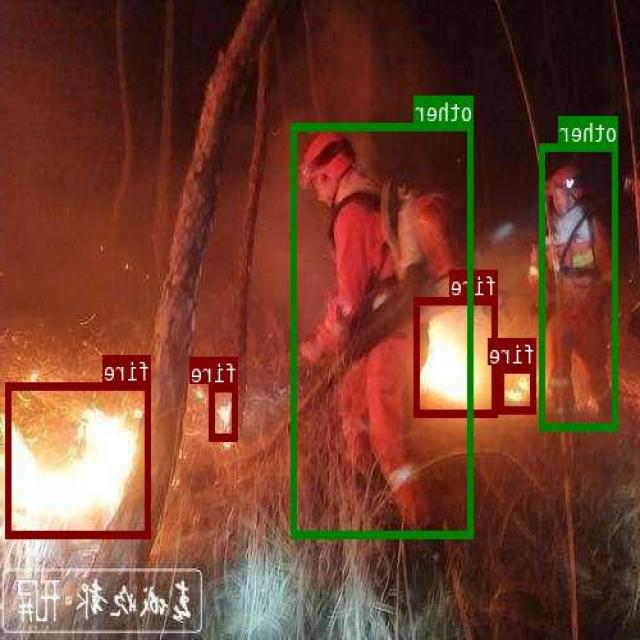fire: (7, 381, 151, 536), (415, 297, 499, 416), (500, 364, 537, 412), (210, 384, 239, 441)
other: (292, 122, 474, 538), (540, 142, 619, 428)
